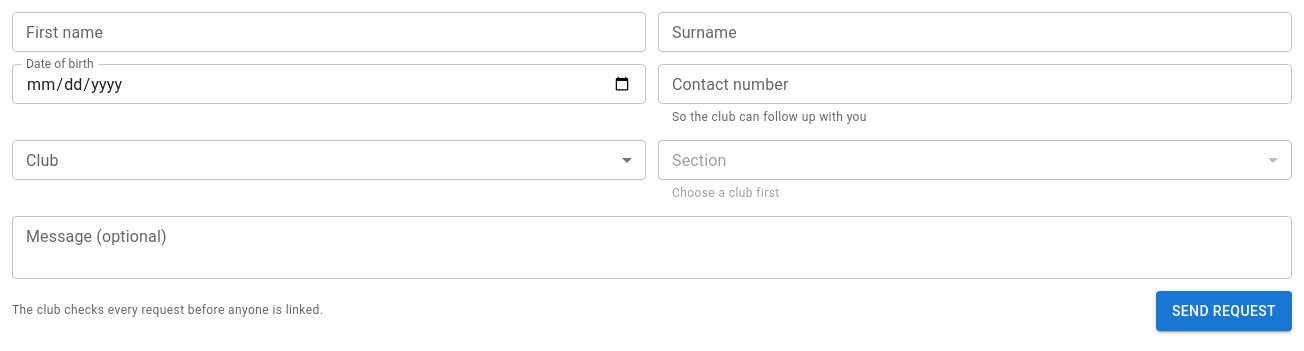
Scenario: LinkRequestForm › section (docs/specs/121) › is disabled with "Choose a club first" until a club is chosen, then loads the club's sections
Expected: the text "Choose a club first" is shown, [672,186,780,200]
Click the 1st dropdown named "Club".
click(329, 160)  # box [12,140,646,180]
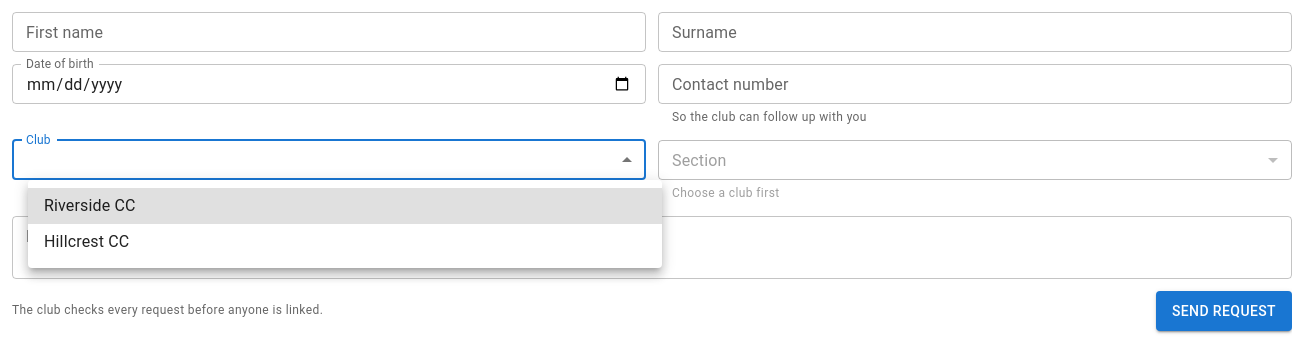
Click the option "Riverside CC".
click(90, 206)  # box [28,188,662,224]
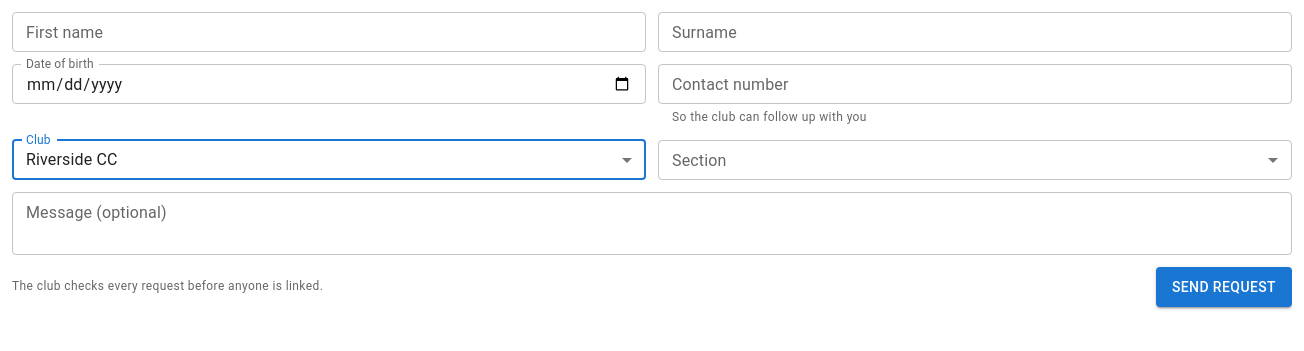
Click the dropdown named "Section".
click(975, 160)  # box [658,140,1292,180]
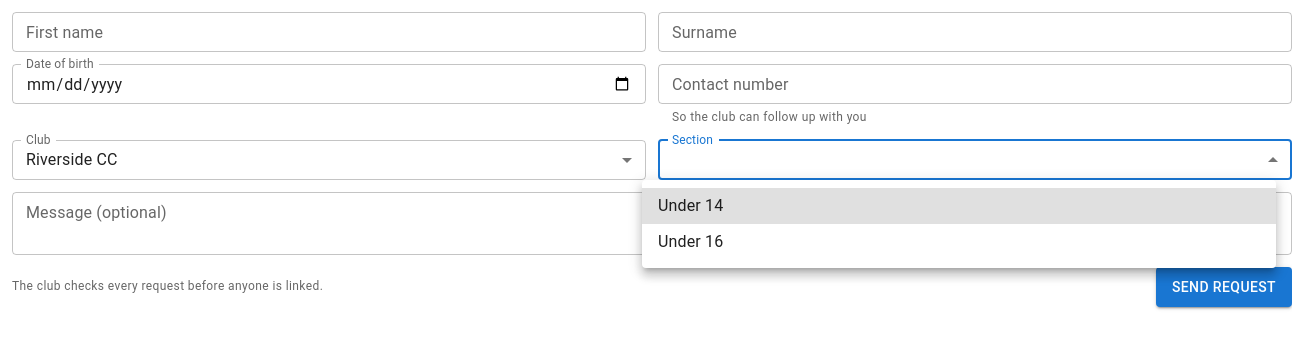
Expected: the text "Choose a club first" is not shown
Now the options read "Under 14", "Under 16", in this order, box [642,188,1276,224]; [658,232,723,251]
